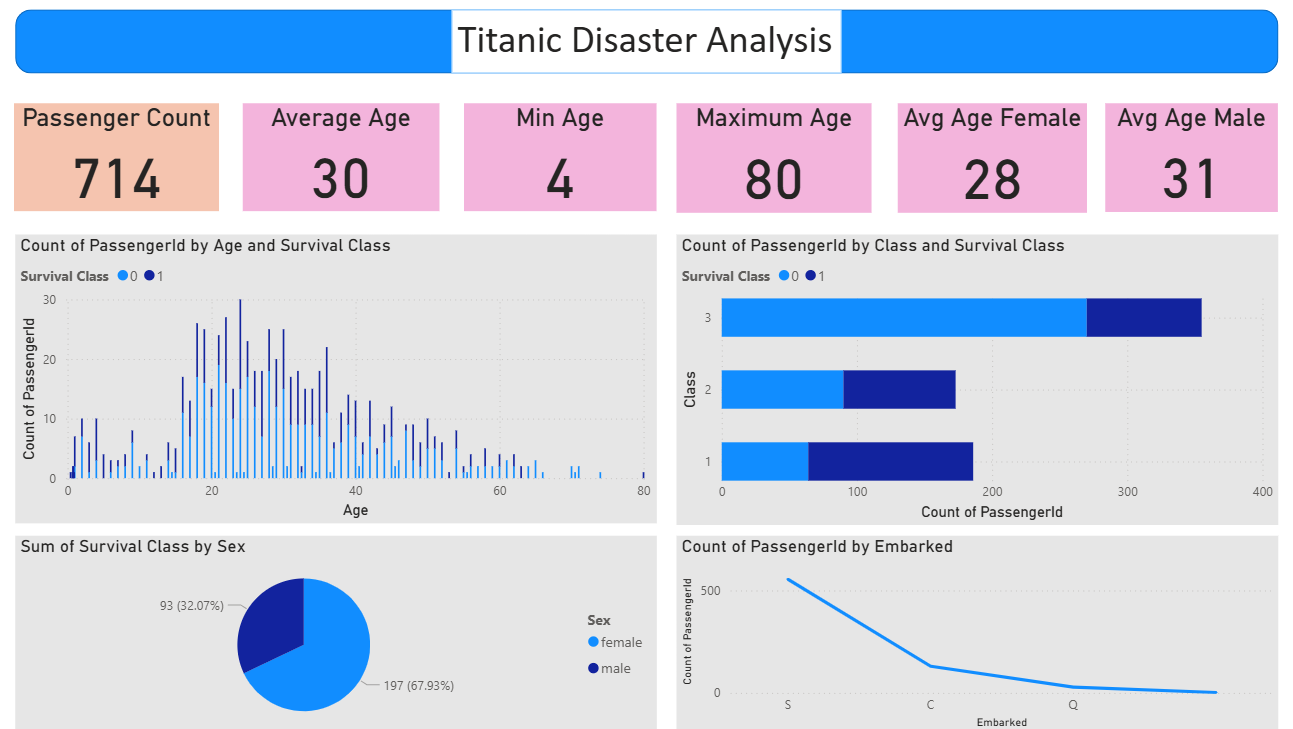

The page's visual inventory and layout, read from the dashboard file:
{"tool":"powerbi","page":{"name":"Page 1","canvas":[1280,720],"ordinal":0},"visuals":[{"type":"shape","box":[44.2,22.1,1217.4,61.6],"z":0},{"type":"textbox","box":[465.2,22,376,61.7],"z":1000},{"type":"card","title":"Average Age","fields":{"Values":["Avg(train.Age)"]},"box":[263.5,112.5,189.4,104.3],"z":2000},{"type":"card","title":"Min Age","fields":{"Values":["Min(train.Age)"]},"box":[477.5,112.5,185.2,104.3],"z":3000},{"type":"card","title":"Avg Age Male","fields":{"Values":["Avg(train.Age)"]},"box":[1095.4,111.6,166.3,104.7],"z":4000},{"type":"card","title":"Avg Age Female","fields":{"Values":["Avg(train.Age)"]},"box":[894.7,112.5,182.5,105.7],"z":5000},{"type":"card","title":"Maximum Age","fields":{"Values":["Max(train.Age)"]},"box":[682,112.5,188,105.7],"z":6000},{"type":"card","title":"Passenger Count","fields":{"Values":["CountNonNull(train.PassengerId)"]},"box":[43.9,112.5,197.6,104.3],"z":7000},{"type":"columnChart","fields":{"Category":["train.Age"],"Y":["CountNonNull(train.PassengerId)"],"Series":["train.Survival Class"]},"box":[44.3,238.6,618.6,278.6],"z":8000},{"type":"pieChart","fields":{"Category":["train.Sex"],"Y":["Sum(train.Survival Class)"]},"box":[44.3,528.6,618.6,191.4],"z":9000},{"type":"barChart","fields":{"Category":["train.Class"],"Y":["CountNonNull(train.PassengerId)"],"Series":["train.Survival Class"]},"box":[681.4,238.6,580,280],"z":9001},{"type":"lineChart","fields":{"Category":["train.Embarked"],"Y":["CountNonNull(train.PassengerId)"]},"box":[681.4,528.6,580,191.4],"z":9002}]}

Visuals, with their boxes in screenshot pixels (x1, y1, x2, y2), scaled from the page's 1280x720 canvas onto the 1293x729 screenshot:
shape: (45,22,1274,85)
textbox: (470,22,850,85)
"Average Age" card: (266,114,457,220)
"Min Age" card: (482,114,669,220)
"Avg Age Male" card: (1107,113,1275,219)
"Avg Age Female" card: (904,114,1088,221)
"Maximum Age" card: (689,114,879,221)
"Passenger Count" card: (44,114,244,220)
columnChart - train.Age x CountNonNull(train.PassengerId): (45,242,670,524)
pieChart - train.Sex x Sum(train.Survival Class): (45,535,670,728)
barChart - train.Class x CountNonNull(train.PassengerId): (688,242,1274,525)
lineChart - train.Embarked x CountNonNull(train.PassengerId): (688,535,1274,728)
